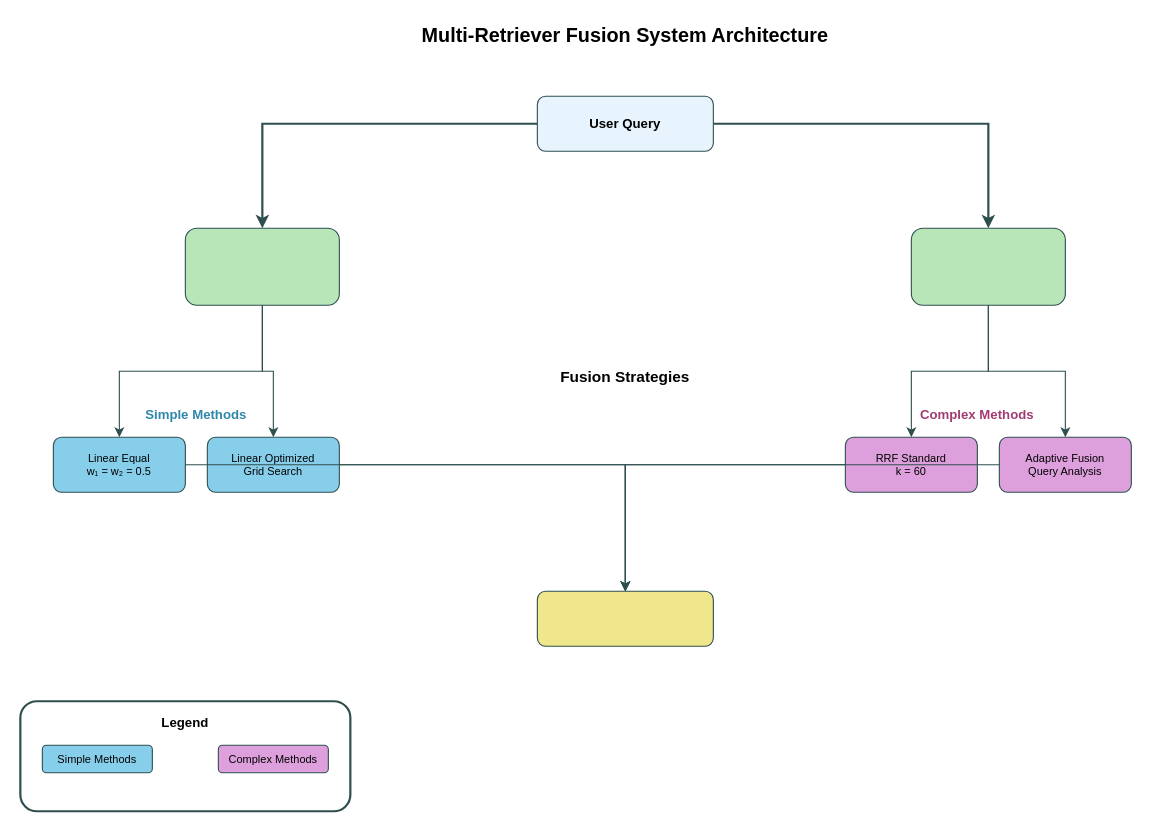
The diagram is 1151 pixels wide and 831 high, and some of its shapes have lost their labels. The centre of each missing label's shape, as x and y in pixels:
BM25 Retriever (Sparse): pixel 261 266
E5-large-v2 (Dense): pixel 987 266
Ranked Results: pixel 624 618
